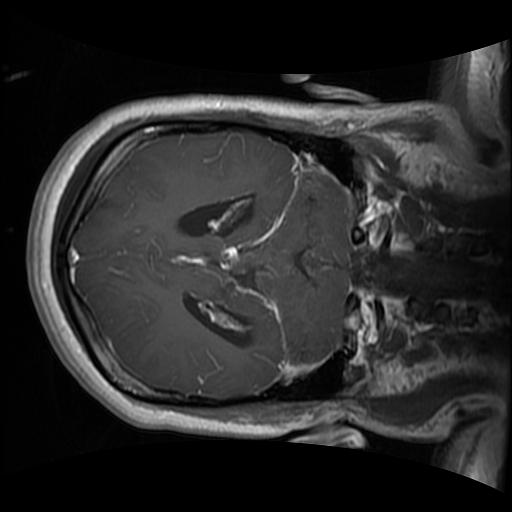glioma: (170, 236, 268, 298)
